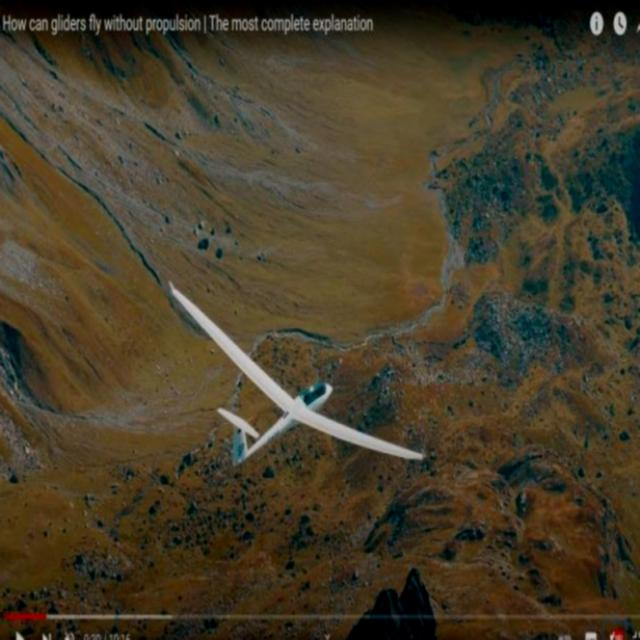plane: (168, 278, 426, 468)
